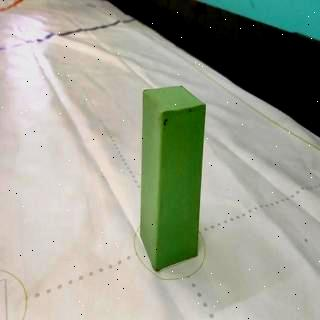greenbox: (140, 82, 206, 270)
